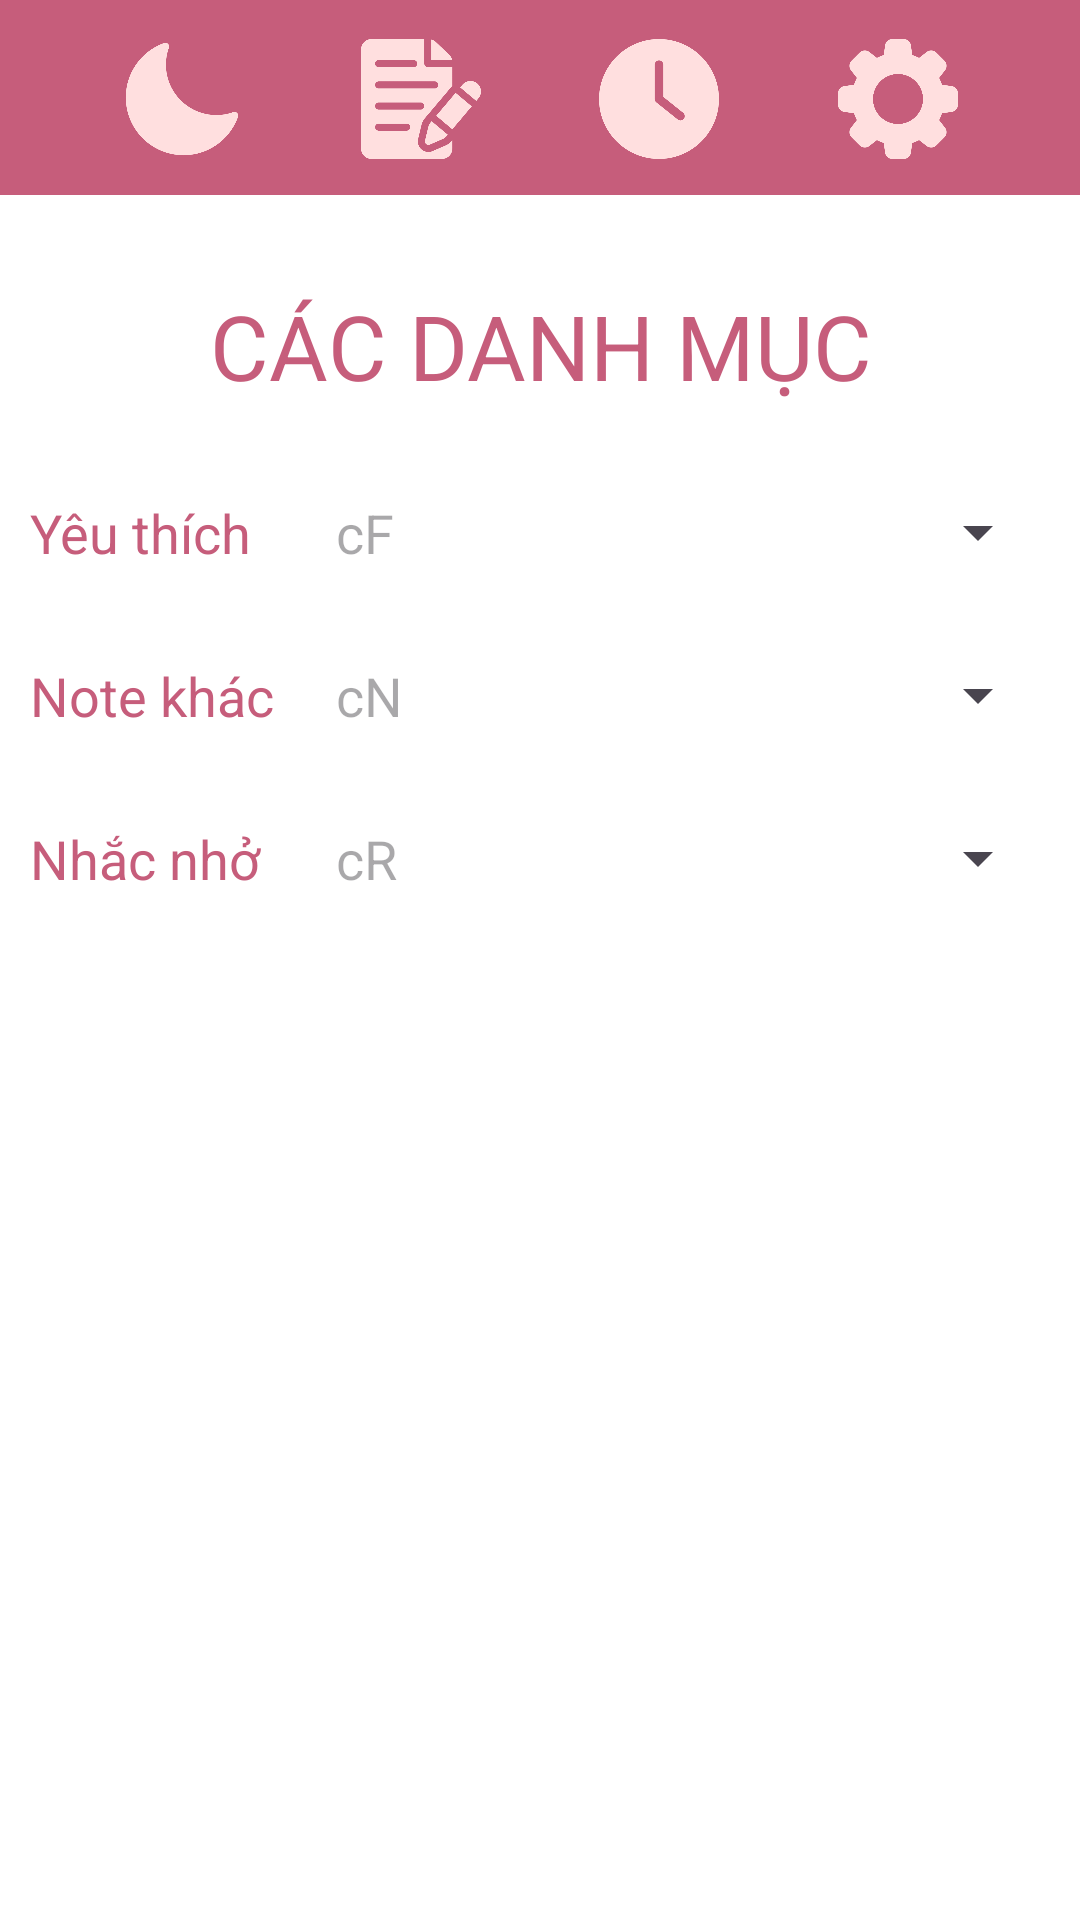

Icon bounding boxes for this 1080 x 1920 phone screenshot, format [x1, y1, x2, y2]:
date: [599, 39, 719, 159]
nightmode: [126, 43, 238, 155]
note: [361, 39, 481, 159]
settings: [838, 39, 958, 159]
